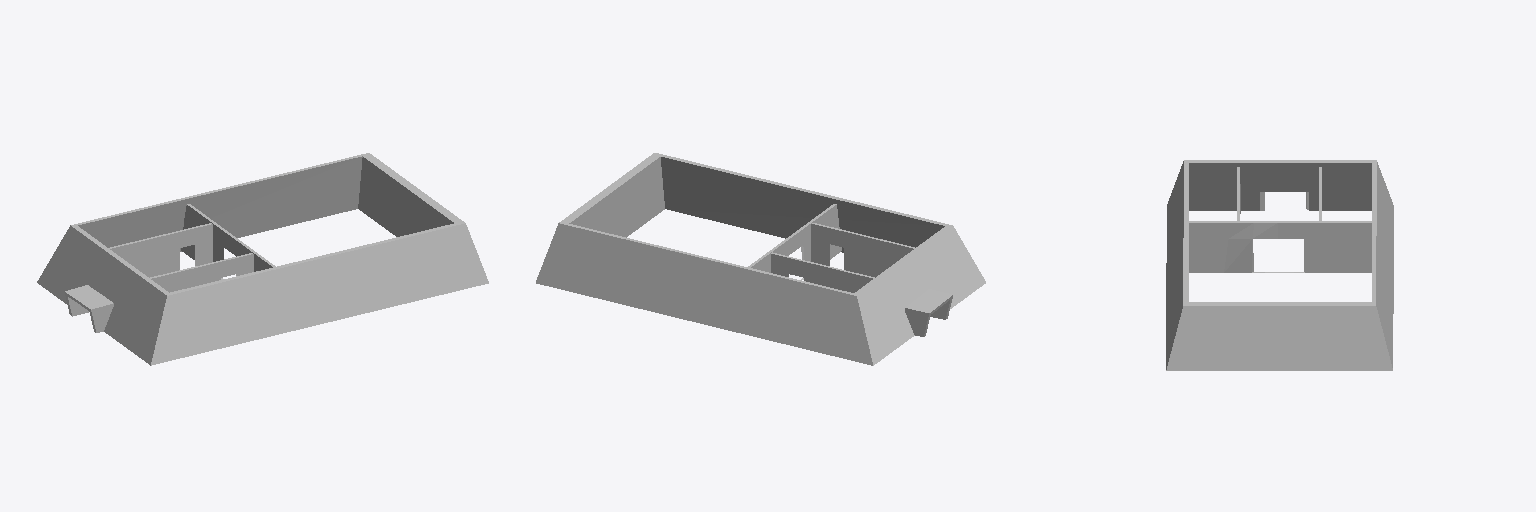
Rendered from CuerpoMuseo.obj.
3 views of the same model, side by side, from view 1: azimuth 30°, elevation 25°; view 2: azimuth 150°, elevation 25°; view 3: azimuth 270°, elevation 25° (orthographic).
Parts seen in each view (by area): view 1: CueroiMuseo; view 2: CueroiMuseo; view 3: CueroiMuseo.
Boxes of the visible parts, box(x1,y1,x2,y2) form: CueroiMuseo: box(37, 153, 488, 365); CueroiMuseo: box(536, 153, 985, 365); CueroiMuseo: box(1166, 160, 1393, 370).
Bounding box in the file's own units: 371 × 57.81 × 207.